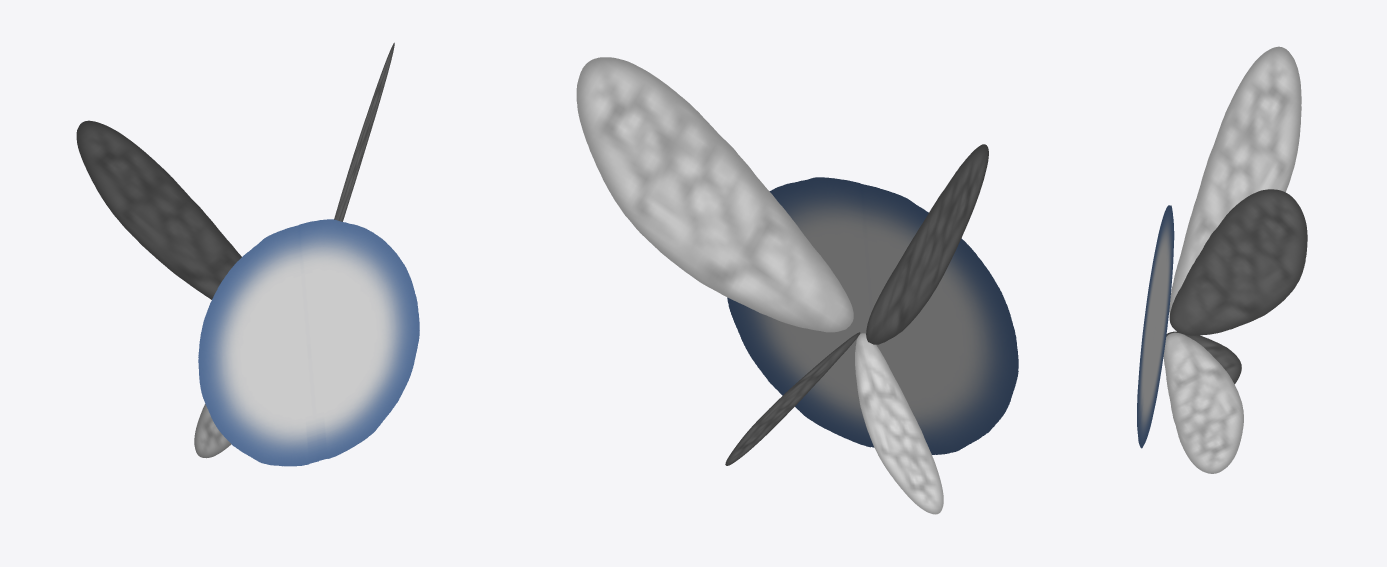
The model's file is navi.obj.
3 views of the same model, side by side, from view 1: azimuth 30°, elevation 25°; view 2: azimuth 150°, elevation 25°; view 3: azimuth 270°, elevation 25° (orthographic). The views are drawn at different scales.
Bounding box in the file's own units: 9.52 × 10.08 × 6.09.
Materials: 1 (1 with a texture image).
